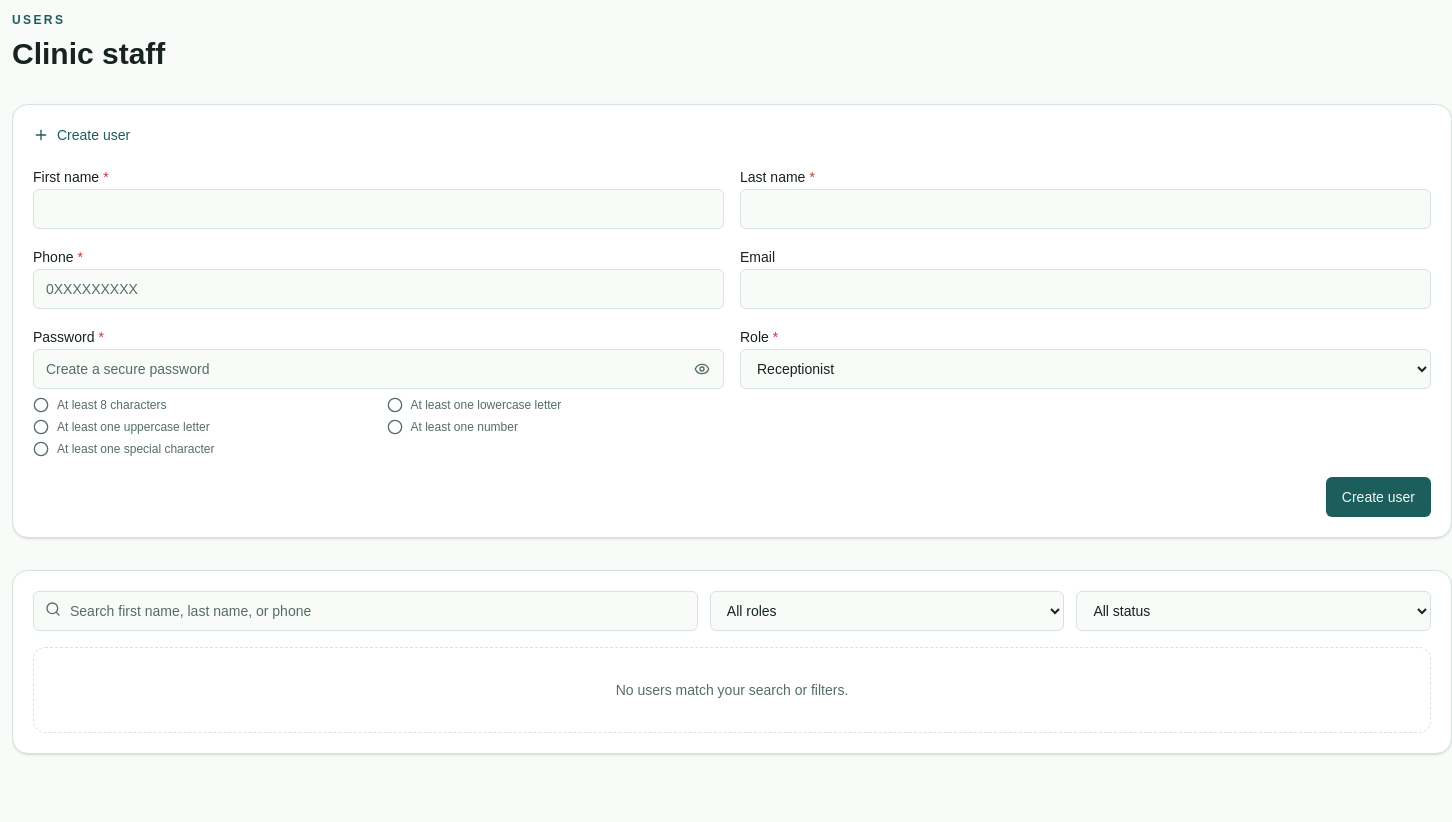
Scenario: clinic staff form › marks password requirements green as they are met
Check: the text "No users match your search or filters." is shown, box left=33, top=647, right=1431, bottom=733
Step 1. Type "Clinic123!" into the password field labelled "Password*" → (378, 369), box left=33, top=349, right=724, bottom=389
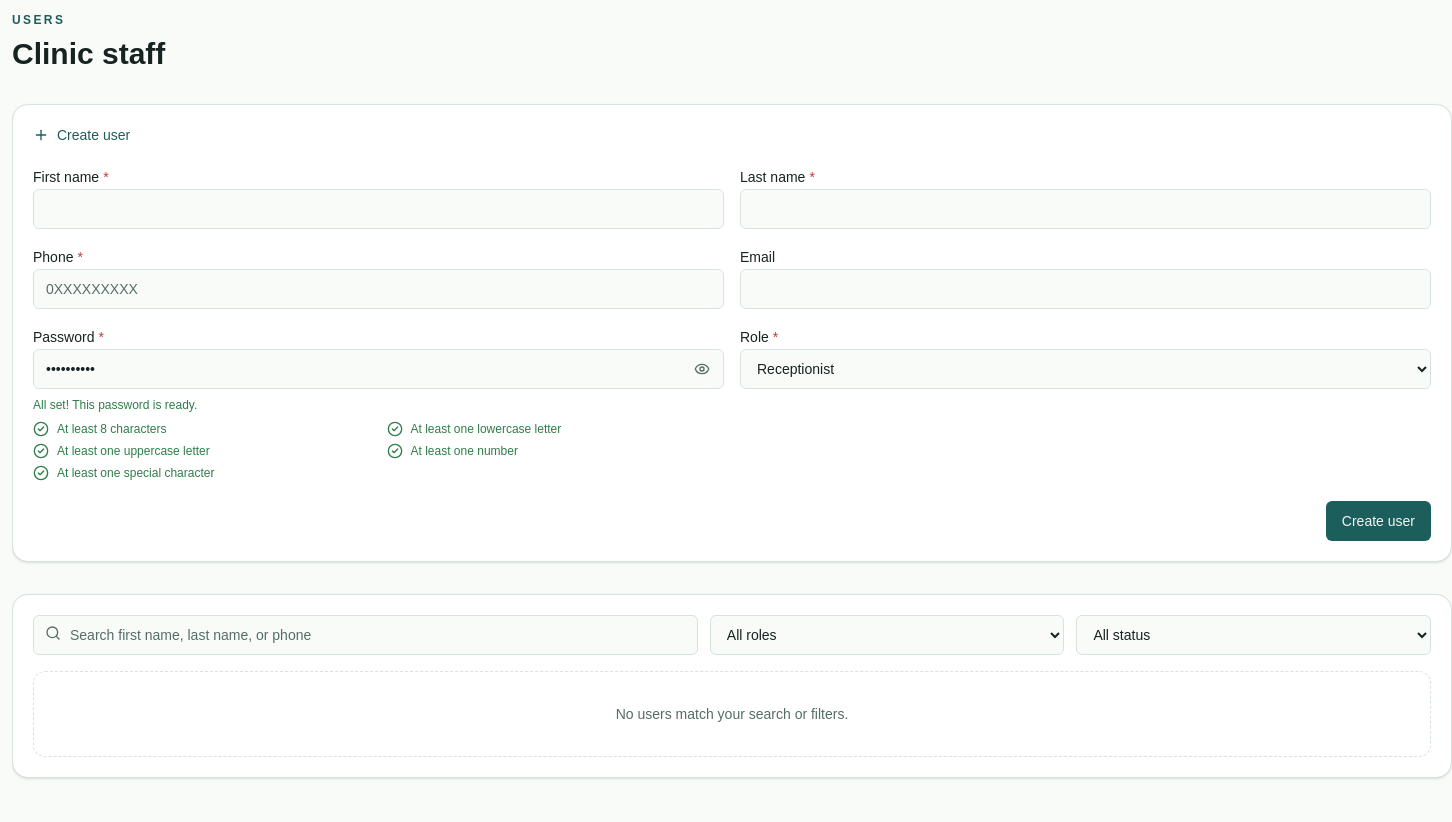
Check: the text "All set! This password is ready." is shown, box left=33, top=398, right=197, bottom=412
